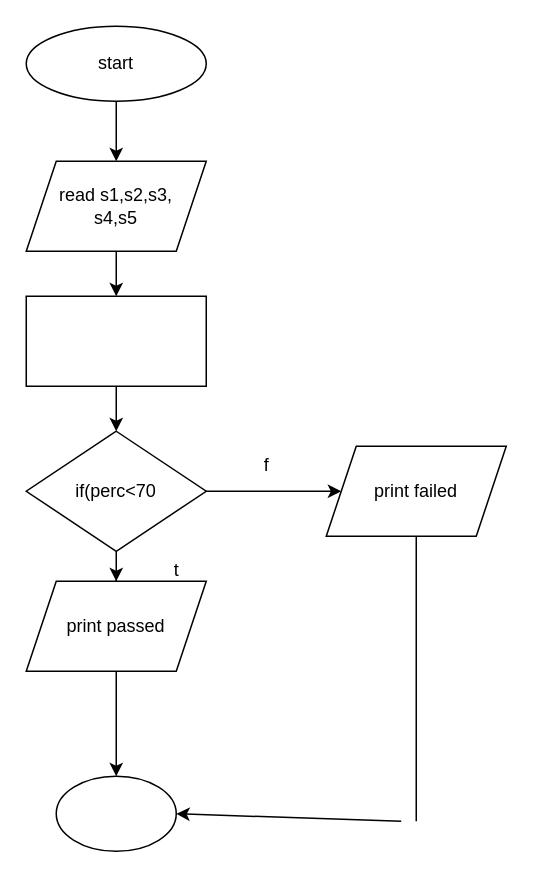
Some shapes in this 533 by 878 pixel diagram are drawn without their labels. Each missing label, with the box of its shape:
percentage of student =total marks /total no of sub: (25, 295, 206, 386)
stop: (55, 775, 176, 851)
